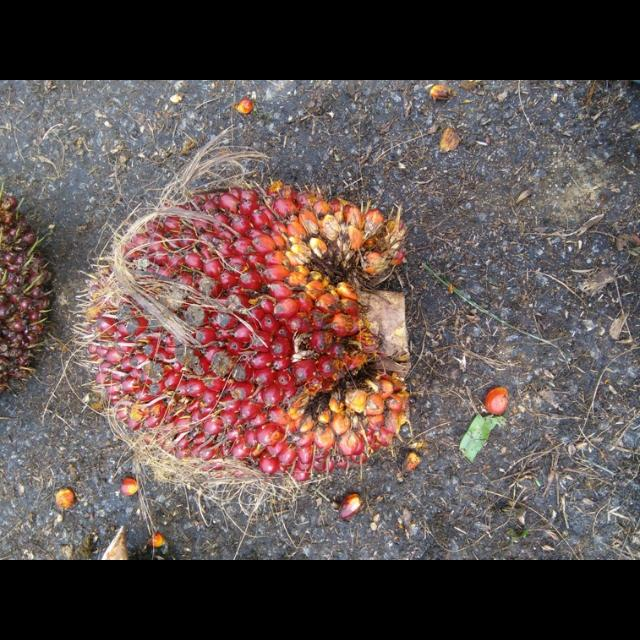Ripe: (80, 182, 409, 485)
